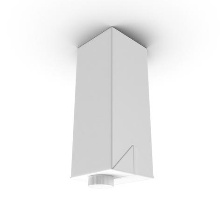carton: (64, 21, 159, 193)
